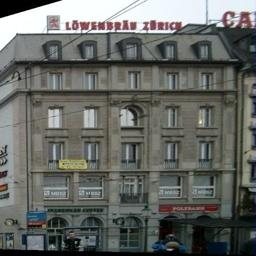building: (13, 3, 234, 240)
